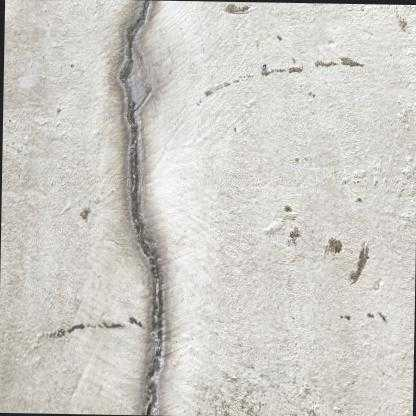crack: (120, 0, 162, 415)
